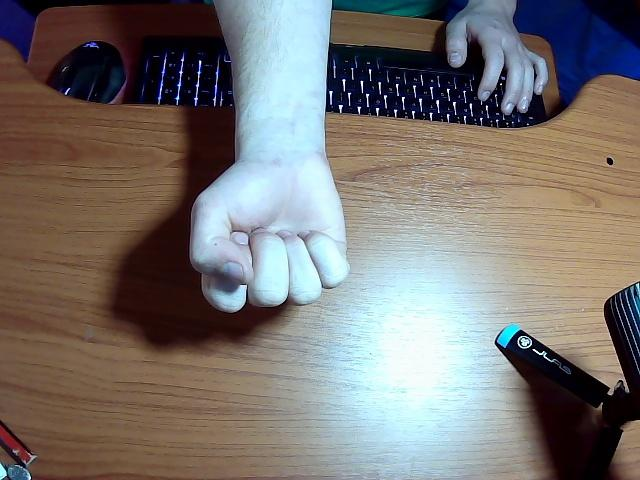rock: (190, 0, 349, 312), (215, 0, 329, 161)
